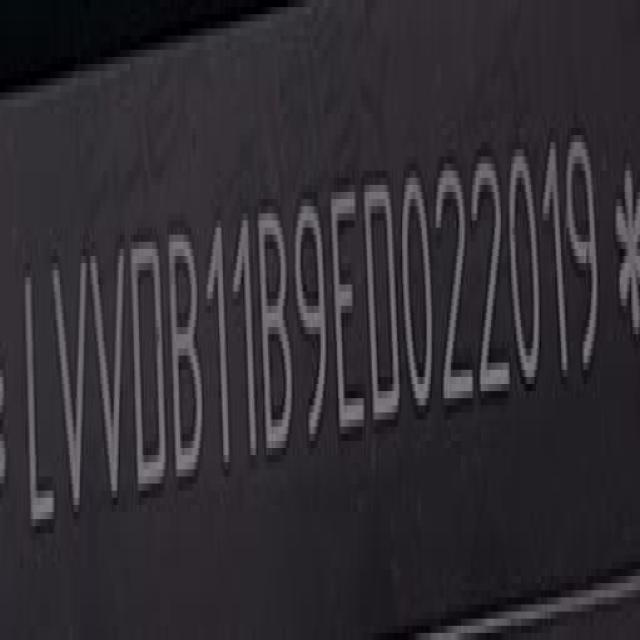0: (507, 132, 542, 392), (402, 176, 436, 440)
1: (230, 213, 262, 480), (539, 134, 571, 382), (205, 223, 233, 484)
2: (434, 160, 478, 422), (472, 148, 512, 416)
9: (293, 205, 329, 450), (568, 132, 600, 398)
B: (166, 227, 205, 492), (257, 198, 294, 466)
D: (128, 227, 168, 506), (364, 179, 404, 429)
E: (328, 184, 368, 434)
L: (23, 245, 58, 548)
V: (53, 240, 91, 534), (90, 234, 128, 524)
